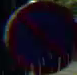No Stopping: (3, 0, 76, 74)
